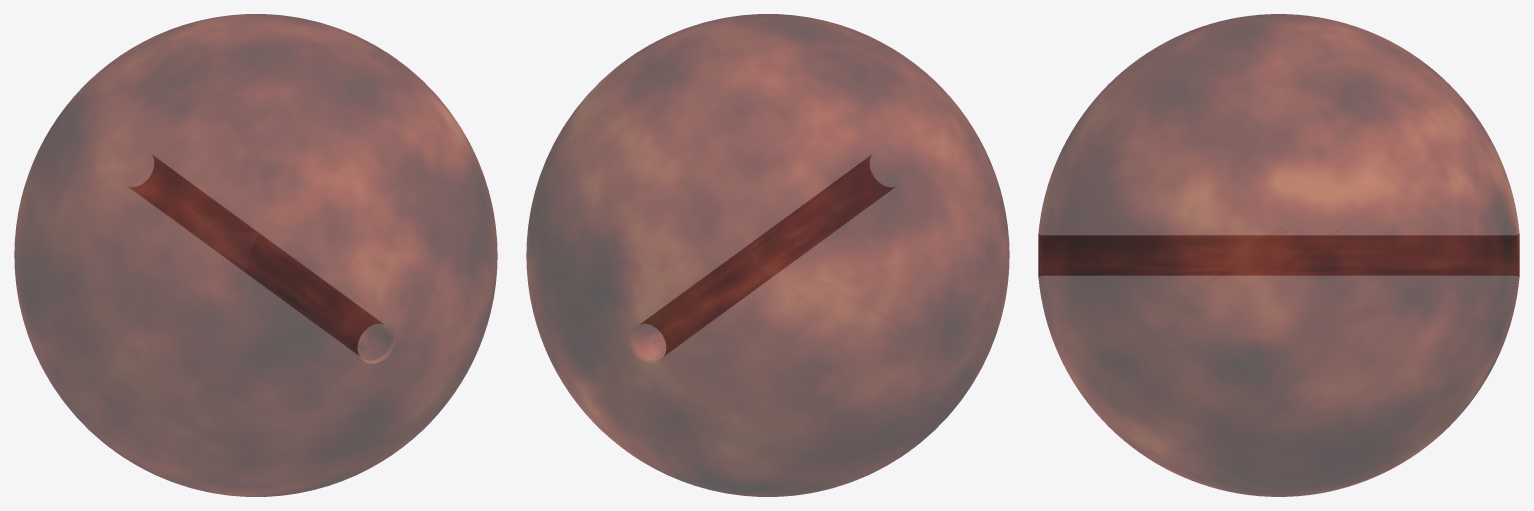
Rendered from hessonite-12mm.glb.
The picture shows the model from 3 angles, left to right: view 1: azimuth 30°, elevation 25°; view 2: azimuth 150°, elevation 25°; view 3: azimuth 270°, elevation 25°; orthographic projection.
Visible parts, largest first — view 1: hessonite.001; view 2: hessonite.001; view 3: hessonite.001.
Part boxes in pixels (<box>): hessonite.001: <box>14,14,497,496</box>; hessonite.001: <box>526,14,1009,496</box>; hessonite.001: <box>1038,14,1519,496</box>.
Bounding box in the file's own units: 0.012 × 0.012 × 0.012.
2 materials, 1 textured.
